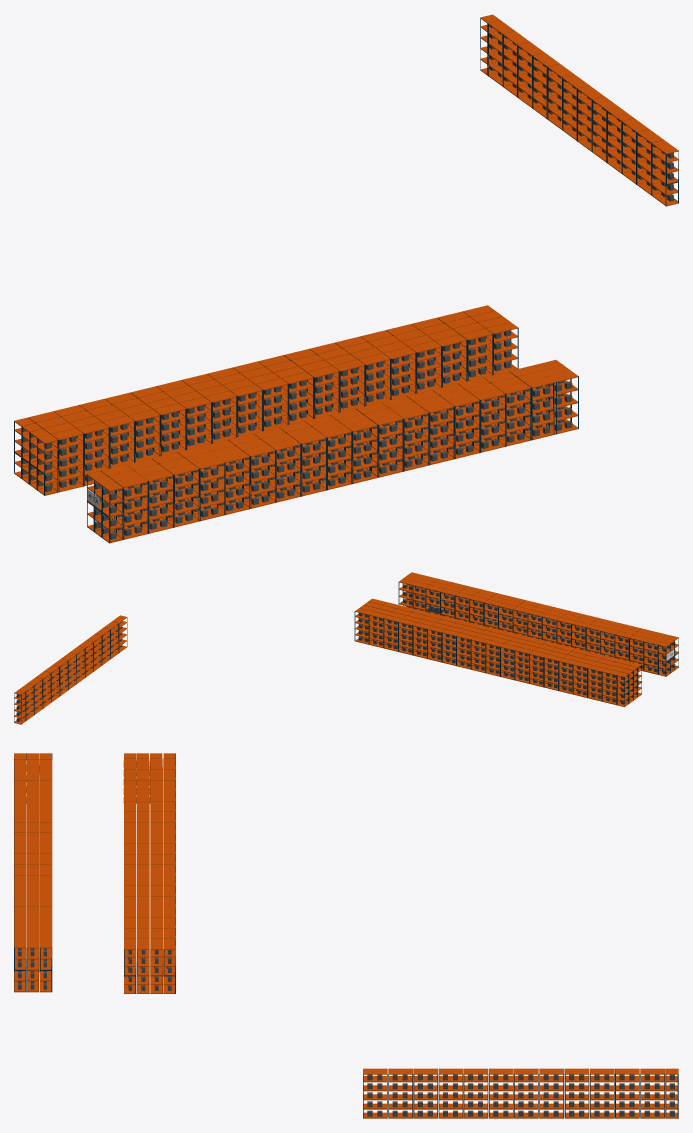
The model's file is CDFT.glb.
3 renders of one model, top to bottom at view 1: azimuth 30°, elevation 25°; view 2: azimuth 150°, elevation 25°; view 3: azimuth 270°, elevation 25°, orthographic. The views are drawn at different scales.
Visible parts, largest first — view 1: RUA_A_IMPAR, EST_RA_PAR, RUA_QUIMICO; view 2: RUA_A_IMPAR, EST_RA_PAR, RUA_QUIMICO; view 3: RUA_A_IMPAR, RUA_QUIMICO, EST_RA_PAR.
Part boxes in pixels (x1,y1,x2,y2): RUA_A_IMPAR: [14, 305, 518, 495]; EST_RA_PAR: [87, 360, 578, 543]; RUA_QUIMICO: [480, 14, 678, 206]; RUA_A_IMPAR: [354, 598, 641, 706]; EST_RA_PAR: [398, 572, 678, 676]; RUA_QUIMICO: [14, 615, 127, 724]; RUA_A_IMPAR: [123, 753, 175, 993]; RUA_QUIMICO: [363, 1068, 678, 1118]; EST_RA_PAR: [14, 753, 52, 992].
Size of the model in its own units: 37.2 by 2.43 by 32.57.
10 materials, 1 textured.
